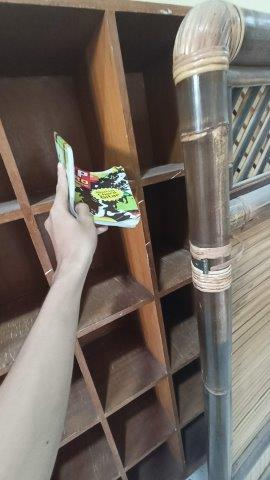kertas: (52, 135, 144, 243)
